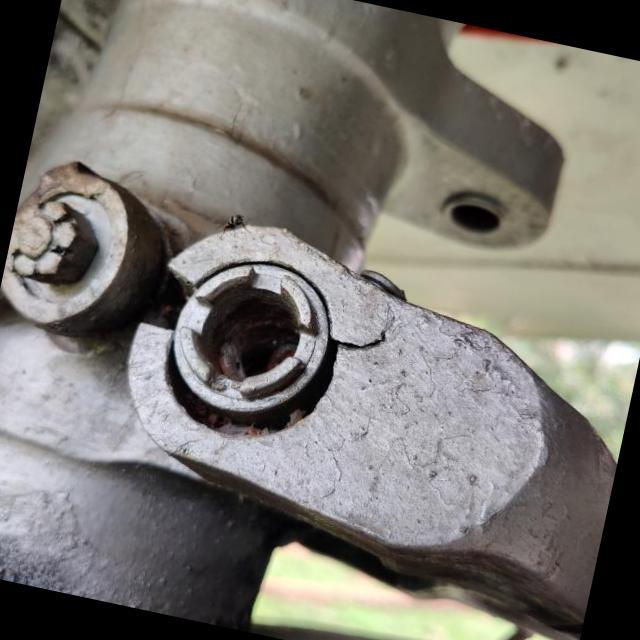Rupture: (327, 296, 404, 365)
